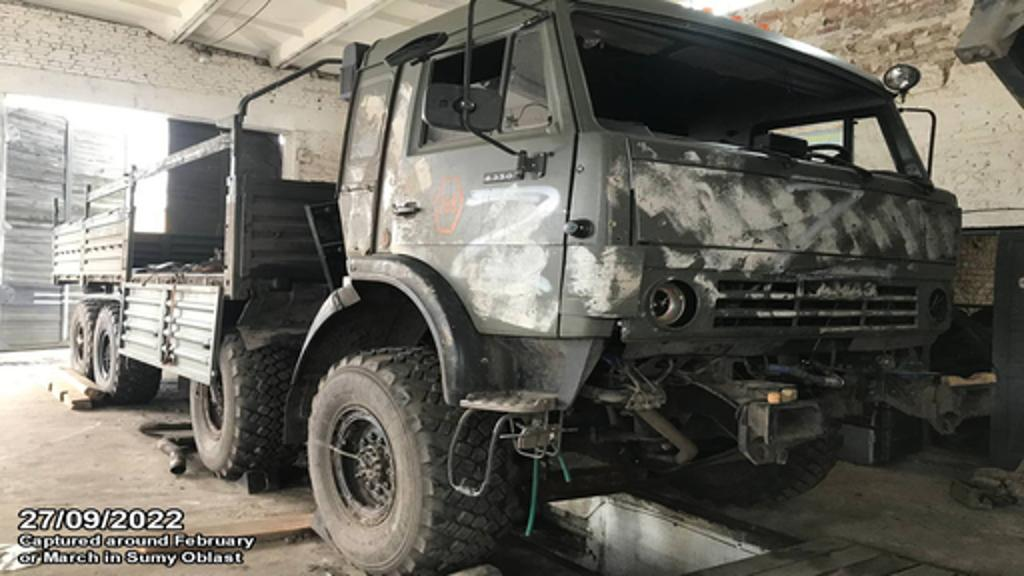TRUCK: (40, 2, 960, 572)
